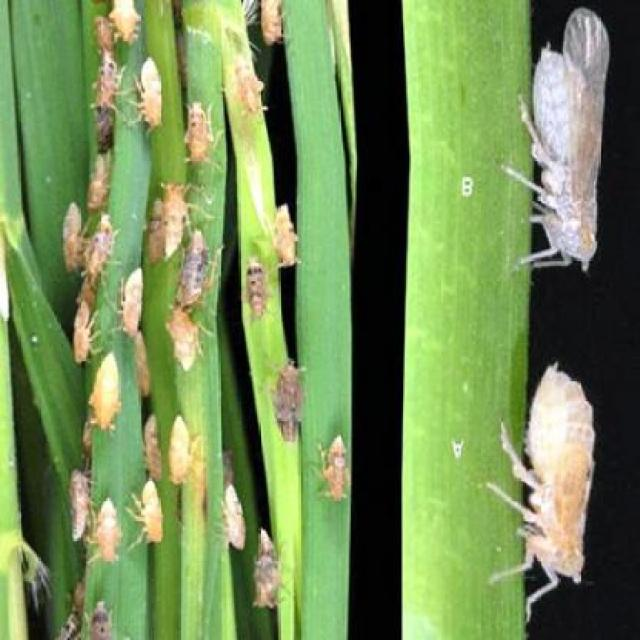brown-planthopper: (507, 360, 598, 588), (517, 22, 598, 269), (269, 354, 305, 444), (131, 56, 164, 135), (88, 352, 121, 430), (317, 434, 355, 501), (176, 228, 207, 304), (229, 56, 265, 121), (162, 407, 192, 485), (165, 312, 201, 376), (251, 530, 280, 608), (153, 184, 184, 253), (132, 478, 162, 548), (272, 204, 302, 270), (64, 468, 90, 541), (218, 482, 245, 552), (94, 497, 120, 565), (184, 106, 211, 166), (61, 202, 84, 270), (94, 52, 118, 114), (246, 258, 269, 318), (87, 154, 110, 208), (72, 301, 92, 362)
